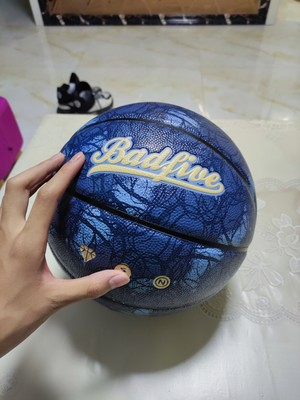ball: (40, 101, 258, 319)
